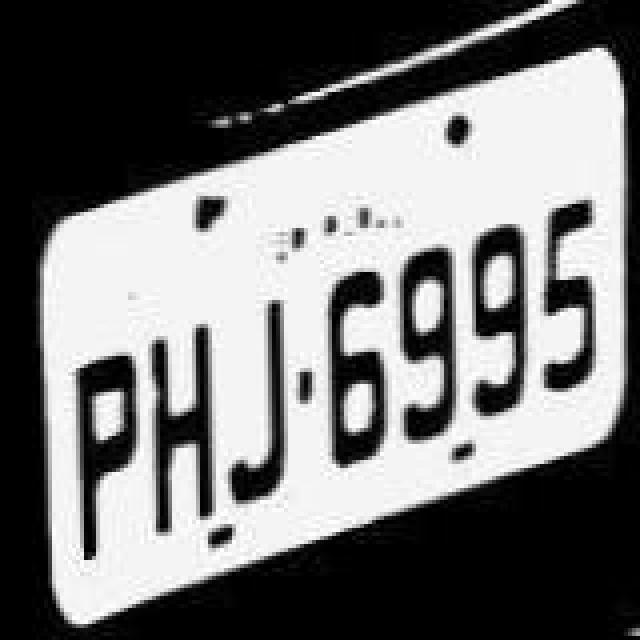5: (530, 184, 602, 400)
6: (316, 252, 392, 468)
9: (460, 204, 536, 420), (386, 226, 458, 442)
H: (142, 306, 218, 530)
J: (214, 280, 290, 508)
P: (66, 332, 142, 556)
